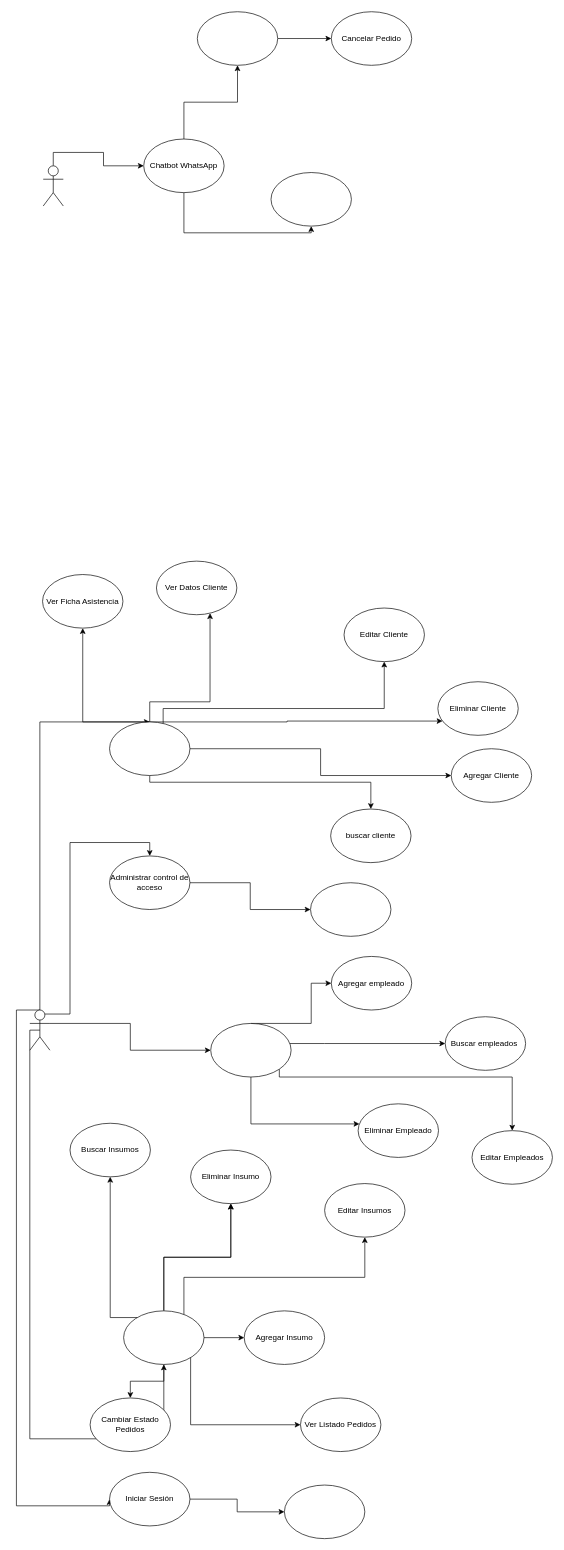
This 564x1550 diagram has some shape labels left out. Here are the shapes that lost their labels. From the top down, the box of each, then its label:
(197, 11, 278, 65): Reservar Insumos
(43, 165, 63, 206): Usuario
(270, 172, 351, 226): Agendar Hora WhatsApp
(109, 721, 190, 776): Administrar Clientes
(310, 882, 391, 936): Asignar Hora a Cliente
(29, 1009, 50, 1050): ADMIN
(210, 1023, 291, 1077): Gestión de empleados
(123, 1310, 204, 1364): Gestión insumos
(284, 1484, 365, 1539): Ingresar credenciales
